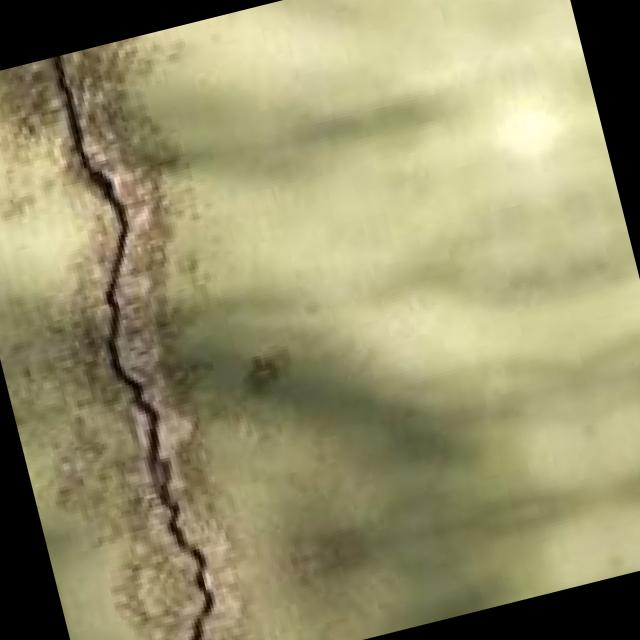crack: (0, 35, 291, 640)
